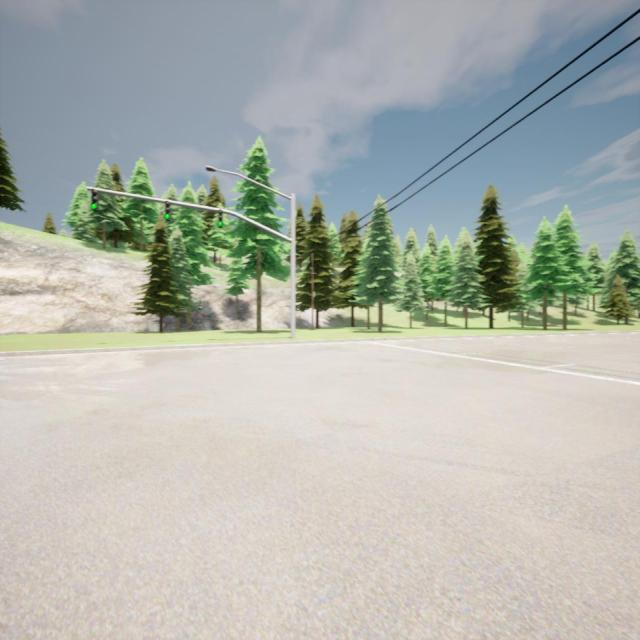traffic_light: (91, 189, 99, 211), (164, 201, 170, 222), (218, 211, 222, 228)
